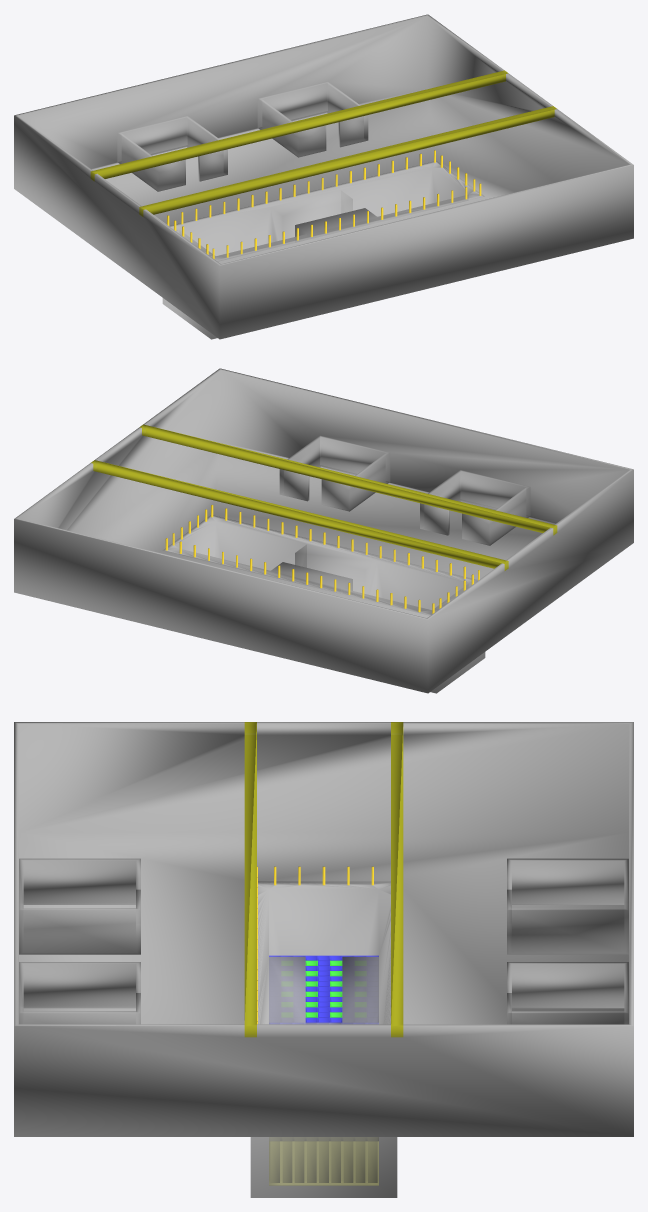
File: plant.fbx
3 views of the same model, one above another, from view 1: azimuth 30°, elevation 25°; view 2: azimuth 150°, elevation 25°; view 3: azimuth 270°, elevation 25° (orthographic). The views are drawn at different scales.
Parts seen in each view (by area): view 1: OpenSCAD Model; view 2: OpenSCAD Model; view 3: OpenSCAD Model.
Boxes of the visible parts, bbox=[...] form: OpenSCAD Model: bbox=[14, 14, 633, 339]; OpenSCAD Model: bbox=[14, 368, 633, 693]; OpenSCAD Model: bbox=[14, 722, 633, 1197].
Size of the model in its own units: 29.5 by 10.09 by 25.4.
